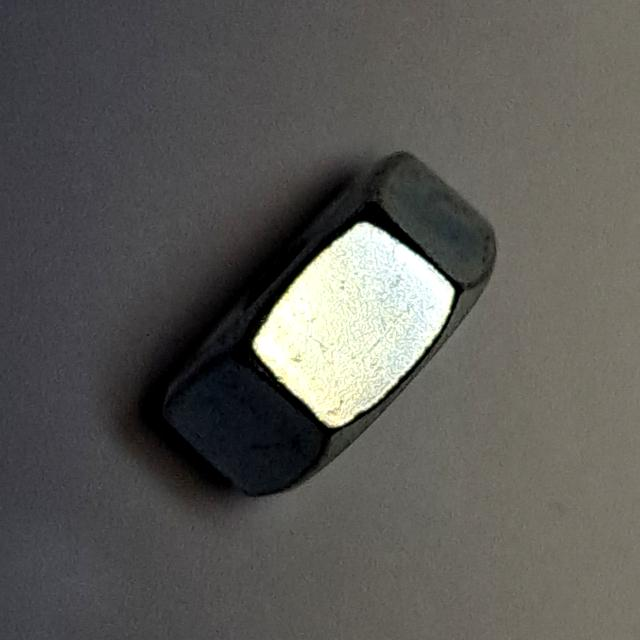Side_Excellent: (139, 128, 511, 516)
